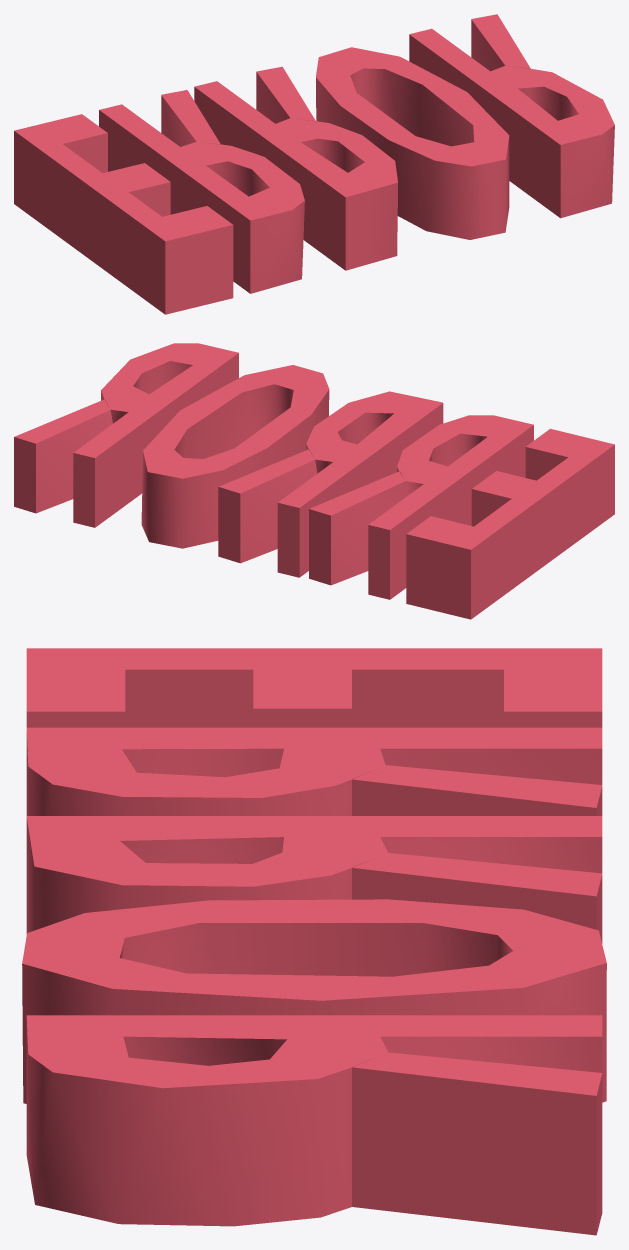
File: error.fbx
The picture shows the model from 3 angles, top to bottom: view 1: azimuth 30°, elevation 25°; view 2: azimuth 150°, elevation 25°; view 3: azimuth 270°, elevation 25°; orthographic projection. The views are drawn at different scales.
Visible parts, largest first — view 1: obj_0; view 2: obj_0; view 3: obj_0.
Boxes of the visible parts, x1,y1,x2,y2 form: obj_0: (14,14,614,314); obj_0: (14,343,614,619); obj_0: (22,648,606,1235).
Size of the model in its own units: 8948 by 1302 by 4941.
